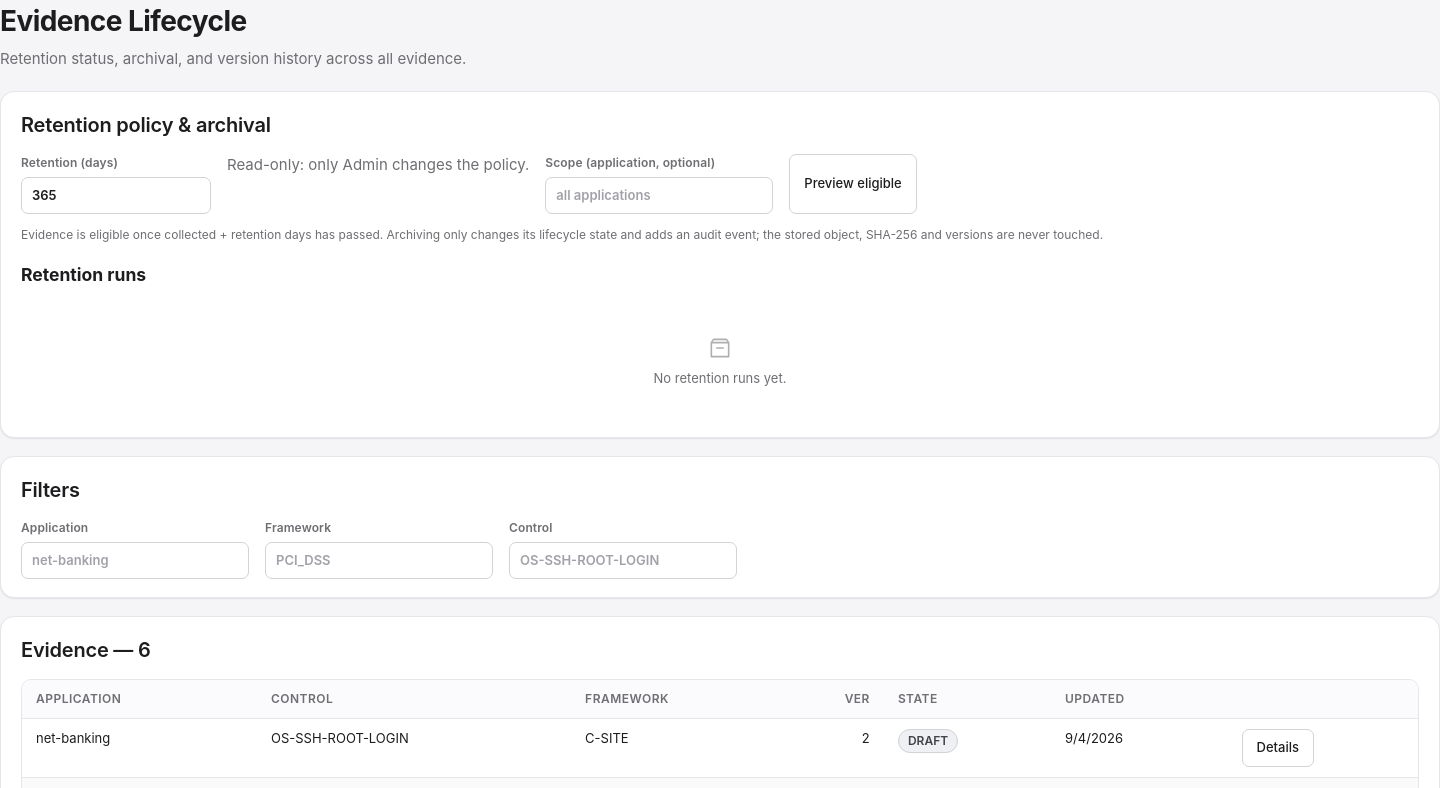
Test: EvidenceLifecycle (UC13 portfolio view) › lists evidence and shows retention status + version history for a selected record
The image size is (1440, 788).
Click the 2nd row at (720, 748), box [22,719,1418,777]
(page scrolled)
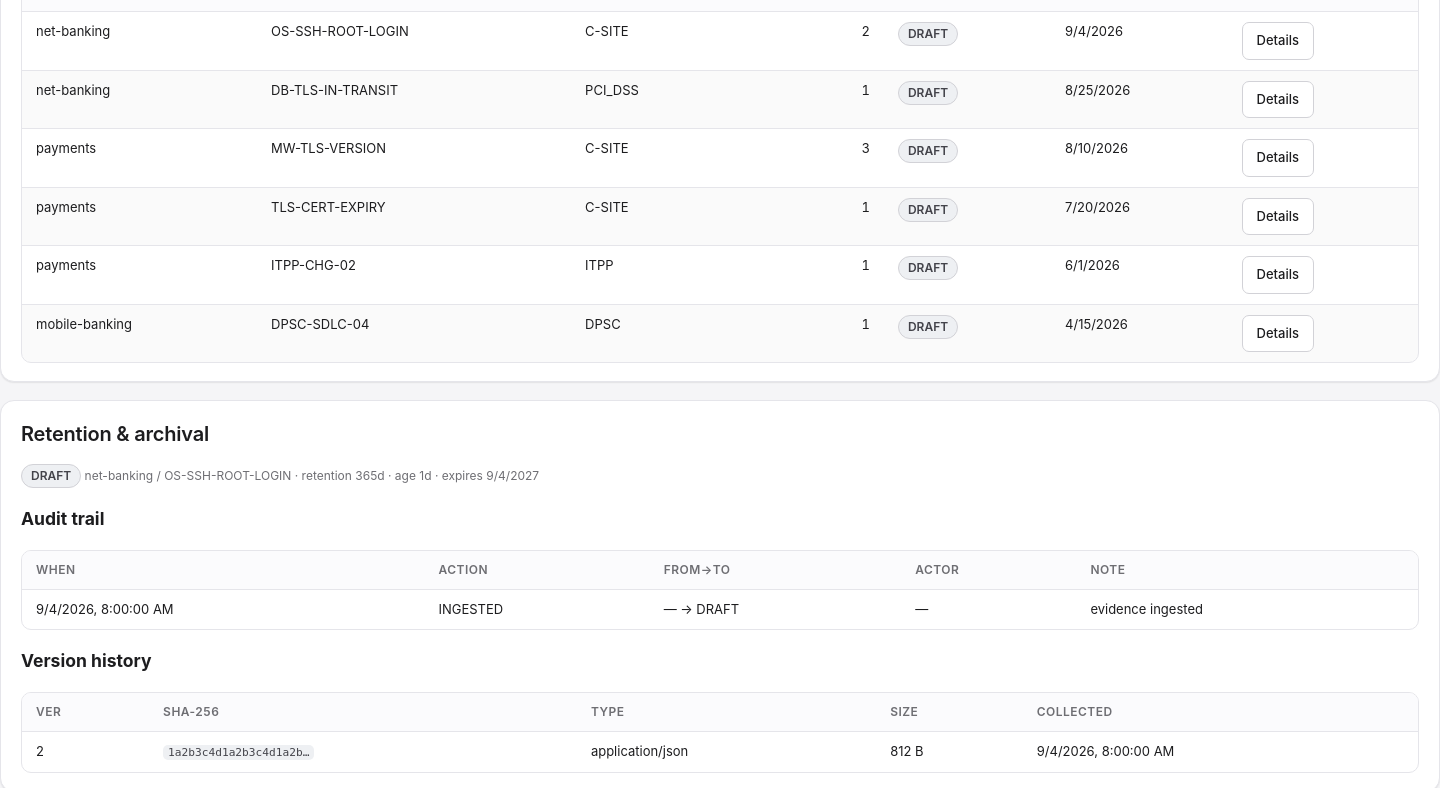
Check: the heading "Audit trail" is shown, box [21,508,104,529]
Check: the heading "Version history" is shown, box [21,650,152,671]
